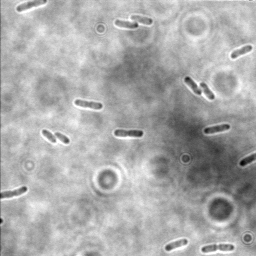rod: (200, 240, 236, 254), (162, 235, 189, 253), (72, 96, 104, 111), (112, 126, 144, 141), (182, 75, 203, 97), (229, 42, 254, 59), (202, 121, 232, 135), (197, 80, 216, 101), (14, 1, 49, 12), (39, 126, 59, 145), (112, 17, 139, 30), (52, 129, 71, 146), (129, 13, 152, 26)
